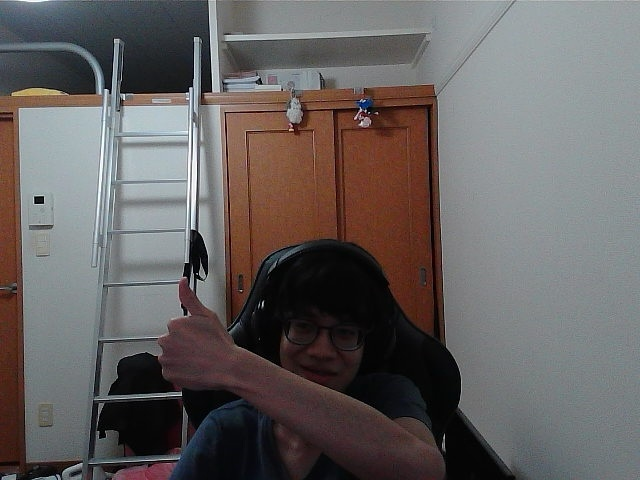thumb_up: (163, 282, 225, 376)
